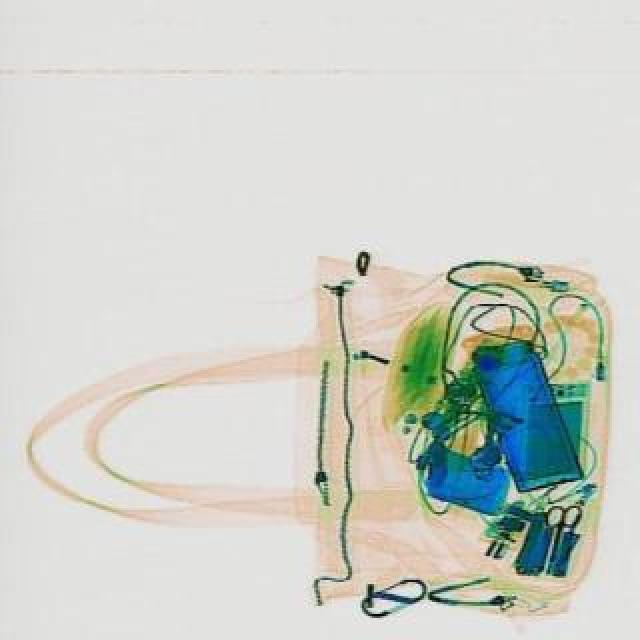pliers: (532, 500, 580, 572)
